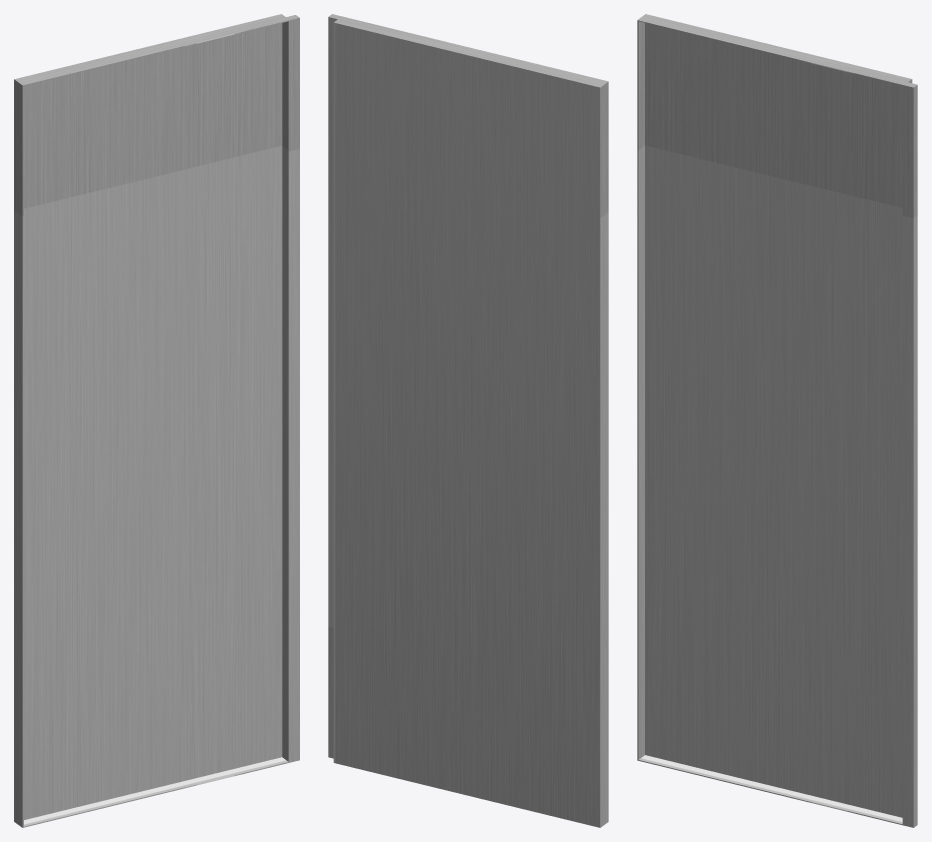
The model's file is right_inner_door.fbx.
3 renders of one model, left to right at view 1: azimuth 30°, elevation 25°; view 2: azimuth 150°, elevation 25°; view 3: azimuth 330°, elevation 25°, orthographic.
Visible parts, largest first — view 1: polySurface30; view 2: polySurface30; view 3: polySurface30.
Boxes of the visible parts, box(x1,y1,x2,y2) form: polySurface30: box(14, 14, 299, 827); polySurface30: box(328, 14, 608, 827); polySurface30: box(637, 14, 917, 827).
Size of the model in its own units: 10.31 by 26.4 by 0.5435.
1 material, 1 textured.
